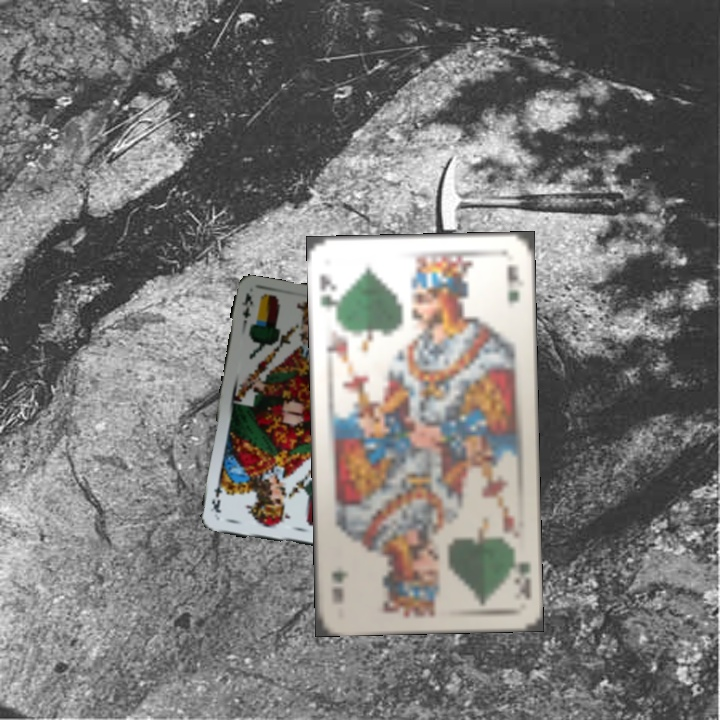EK: (238, 289, 256, 330)
GK: (507, 546, 534, 603), (315, 271, 340, 320)
